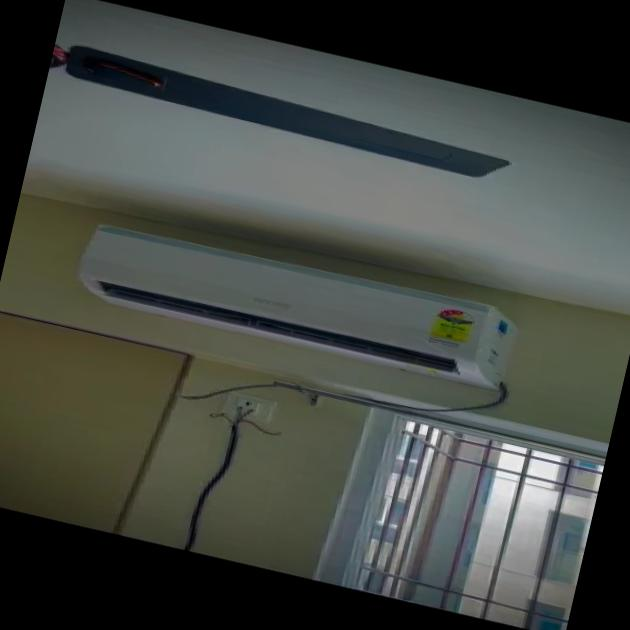air conditioner: (49, 204, 567, 441)
